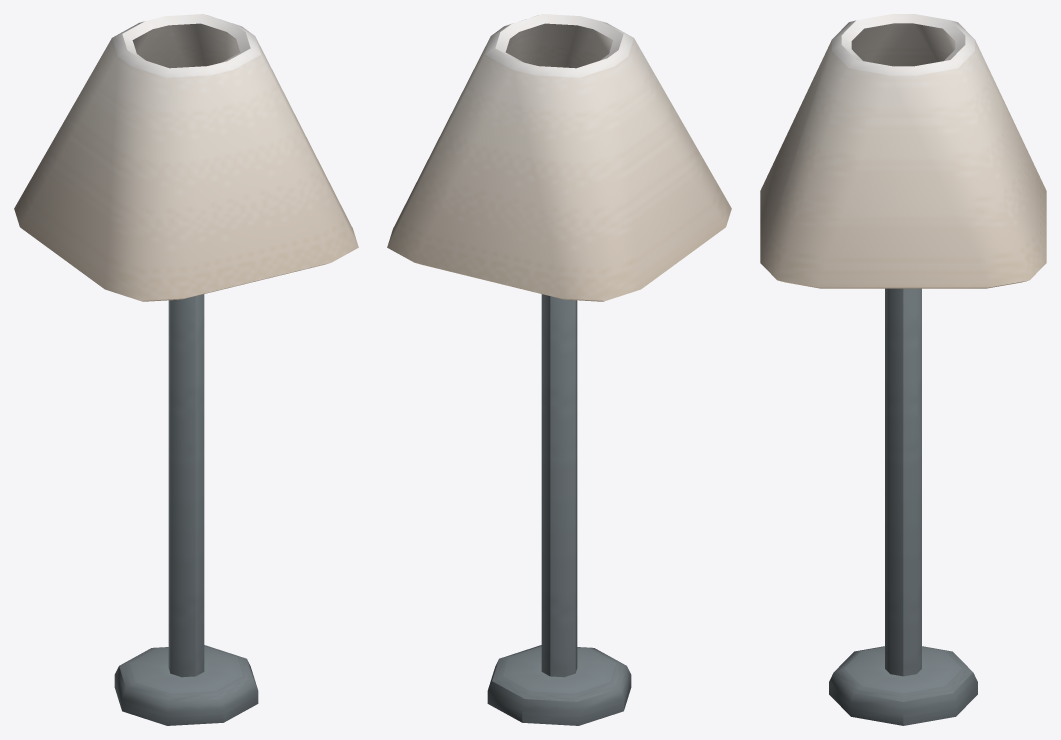
The model's file is lamp-standing.glb.
3 views of the same model, side by side, from view 1: azimuth 30°, elevation 25°; view 2: azimuth 150°, elevation 25°; view 3: azimuth 270°, elevation 25° (orthographic).
Visible parts, largest first — view 1: lamp_standing; view 2: lamp_standing; view 3: lamp_standing.
Part boxes in pixels (x1,y1,x2,y2): lamp_standing: (14,14,358,725); lamp_standing: (387,14,731,725); lamp_standing: (760,14,1046,725).
Bounding box in the file's own units: 1 × 2.52 × 1.
1 material, 1 textured.
